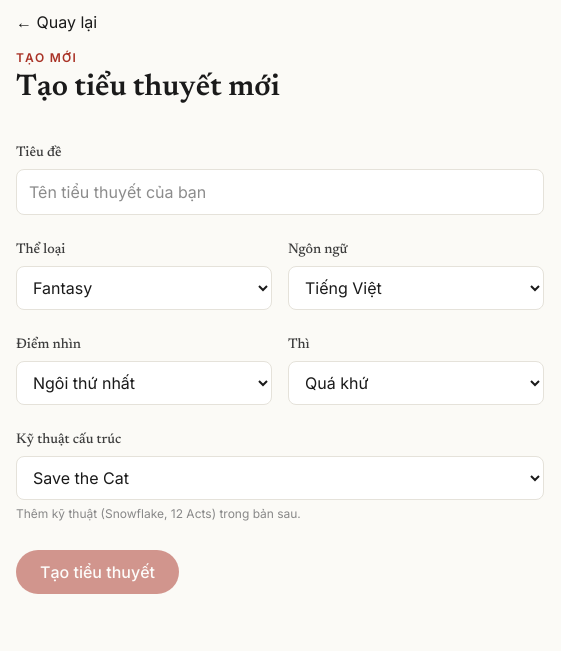
Test: Novel form (trang tạo tiểu thuyết mới) › submit lỗi hiện thông báo, không redirect
Type "Tiểu thuyết lỗi" into the field labelled "Tiêu đề" at point(280, 192), box [16, 169, 544, 215]
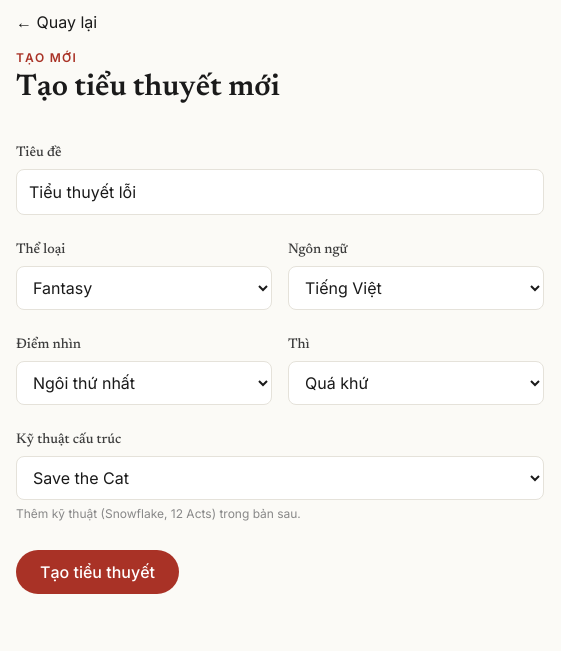
Click the button "Tạo tiểu thuyết" at point(98, 572), box [16, 550, 179, 594]
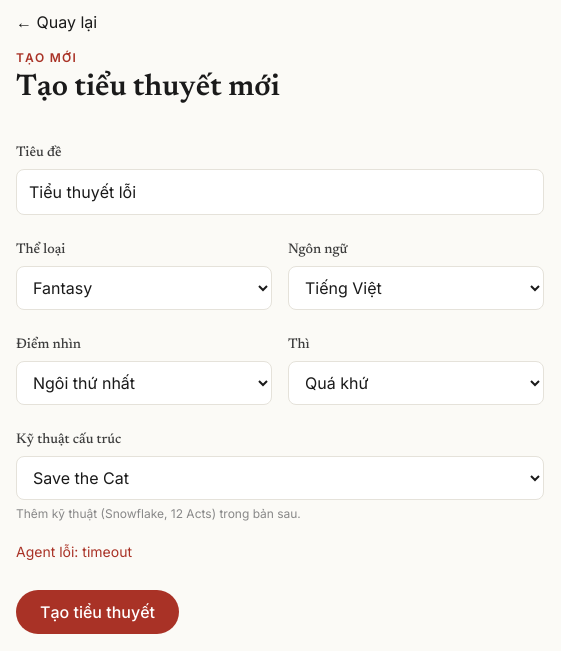
Now the text "Agent lỗi: timeout" is shown, box [16, 543, 132, 560]
